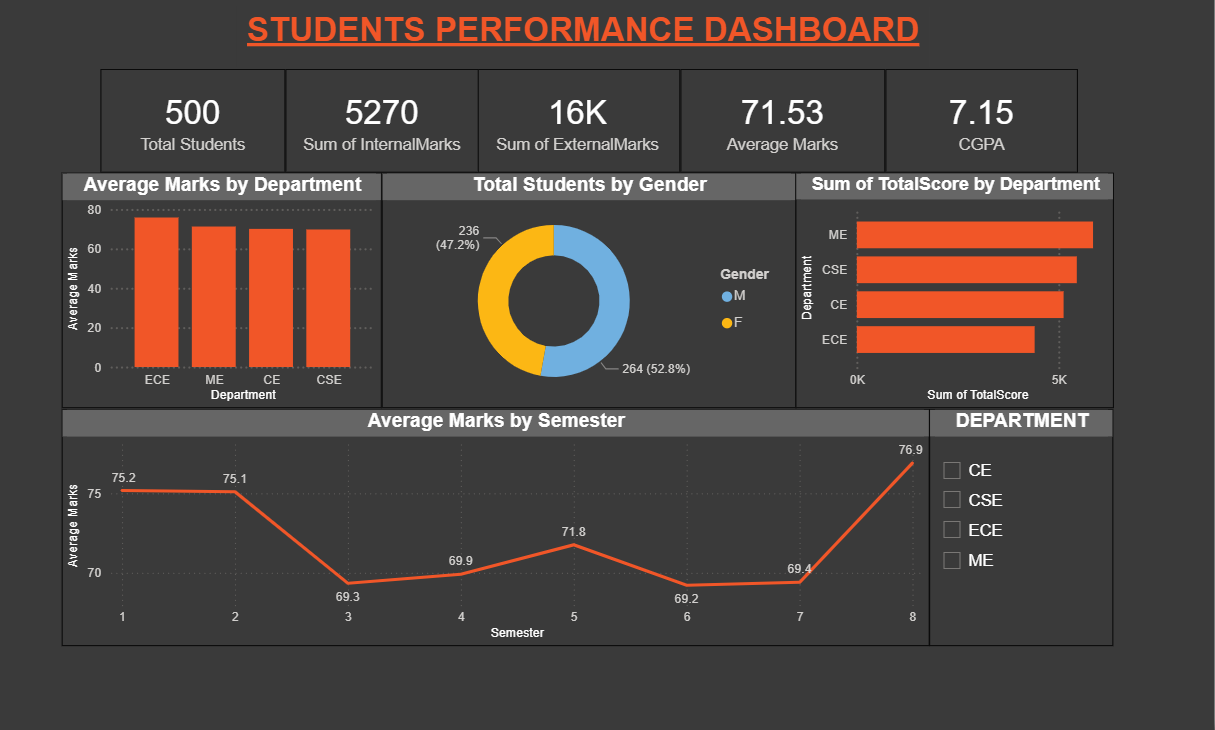

The page's visual inventory and layout, read from the dashboard file:
{"tool":"powerbi","page":{"name":"Page 1","canvas":[1280,720],"ordinal":0},"visuals":[{"type":"card","fields":{"Values":["Marks.Total Students"]},"box":[205,82.5,178.8,100],"z":0},{"type":"card","fields":{"Values":["Marks.Average Marks"]},"box":[765,82.5,197.5,100],"z":1000},{"type":"clusteredColumnChart","fields":{"Category":["Students.Department"],"Y":["Marks.Average Marks"]},"box":[167.5,182.5,308.8,227.5],"z":2000},{"type":"lineChart","fields":{"Category":["Students.Semester"],"Y":["Marks.Average Marks"]},"box":[167.5,410,837.5,228.8],"z":3000},{"type":"donutChart","fields":{"Category":["Students.Gender"],"Y":["Marks.Total Students"]},"box":[476.2,182.5,400,227.5],"z":4000},{"type":"slicer","title":"DEPARTMENT","fields":{"Values":["Students.Department"]},"box":[1005.6,410,177.8,228.9],"z":5000},{"type":"card","fields":{"Values":["Marks.CGPA"]},"box":[962.5,82.5,186.2,101.2],"z":6000},{"type":"textbox","box":[336.2,21.2,668.8,58.8],"z":7000},{"type":"card","fields":{"Values":["Sum(Marks.ExternalMarks)"]},"box":[567.5,82.5,197.5,100],"z":8000},{"type":"card","fields":{"Values":["Sum(Marks.InternalMarks)"]},"box":[383.3,82.2,186.7,100],"z":9000},{"type":"clusteredBarChart","fields":{"Category":["Students.Department"],"Y":["Sum(Marks.TotalScore)"]},"box":[876.2,182.5,307.5,227.5],"z":10000}]}

Visuals, with their boxes on the page's 1280x720 design canvas (x1, y1, x2, y2). These are canvas units, not pixel positions in the 1215x730 screenshot, which may show the page scaled, cropped or inside an application window:
card - Marks.Total Students: 205 82 384 182
card - Marks.Average Marks: 765 82 962 182
clusteredColumnChart - Students.Department x Marks.Average Marks: 168 182 476 410
lineChart - Students.Semester x Marks.Average Marks: 168 410 1005 639
donutChart - Students.Gender x Marks.Total Students: 476 182 876 410
"DEPARTMENT" slicer: 1006 410 1183 639
card - Marks.CGPA: 962 82 1149 184
textbox: 336 21 1005 80
card - Sum(Marks.ExternalMarks): 568 82 765 182
card - Sum(Marks.InternalMarks): 383 82 570 182
clusteredBarChart - Students.Department x Sum(Marks.TotalScore): 876 182 1184 410
